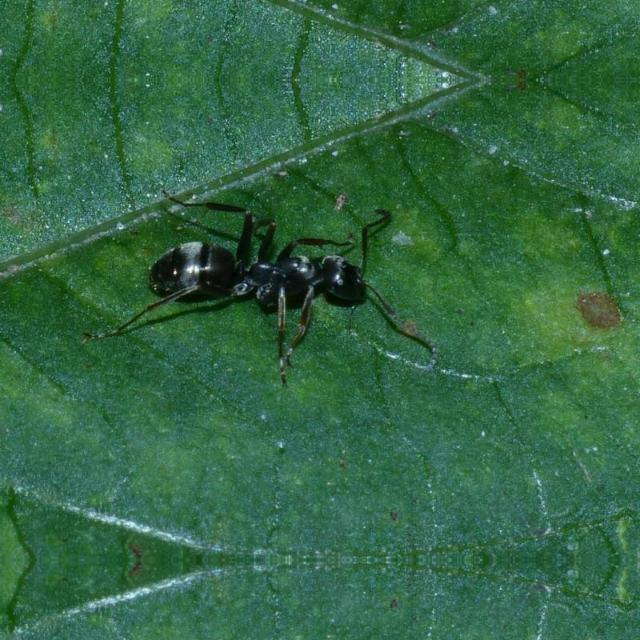Formica: (129, 196, 407, 344)
